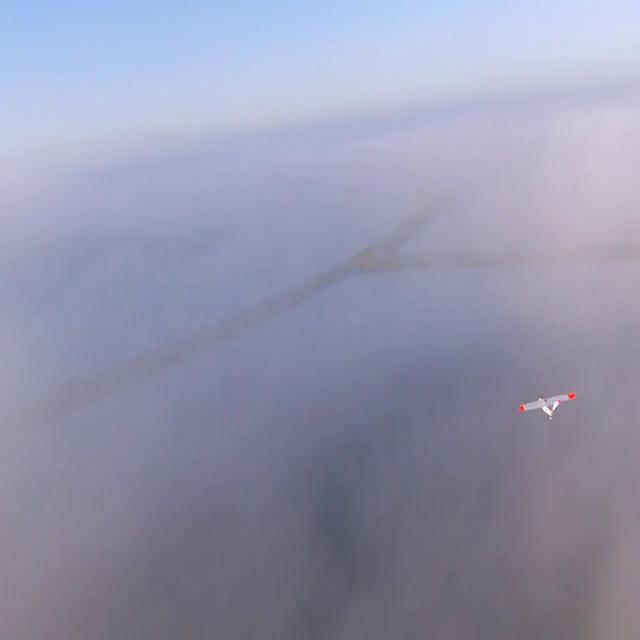iha: (518, 389, 576, 426)
